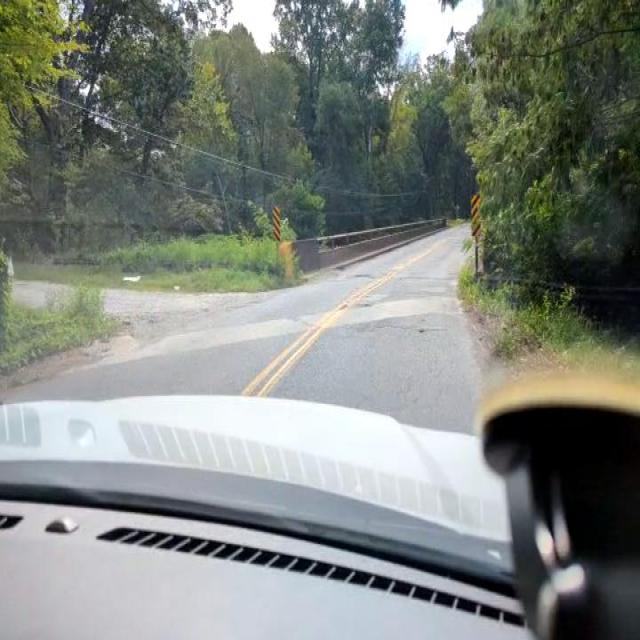pothole: (339, 296, 375, 316), (349, 271, 375, 281), (416, 324, 434, 337)
